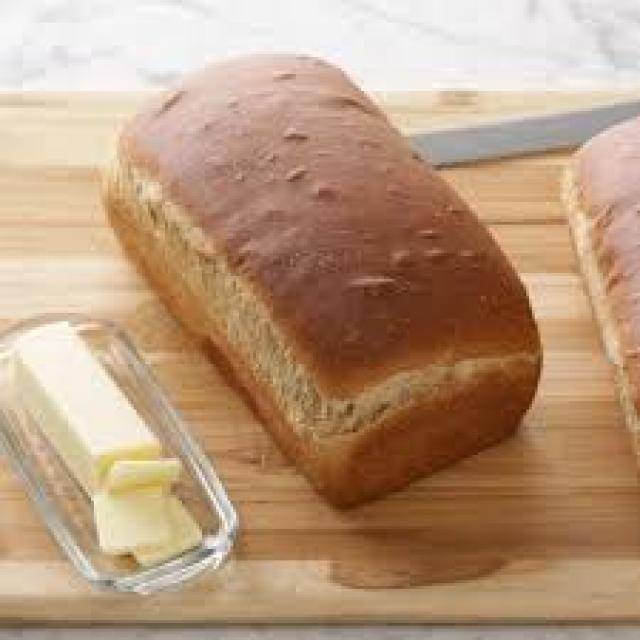bread: (107, 53, 540, 512)
